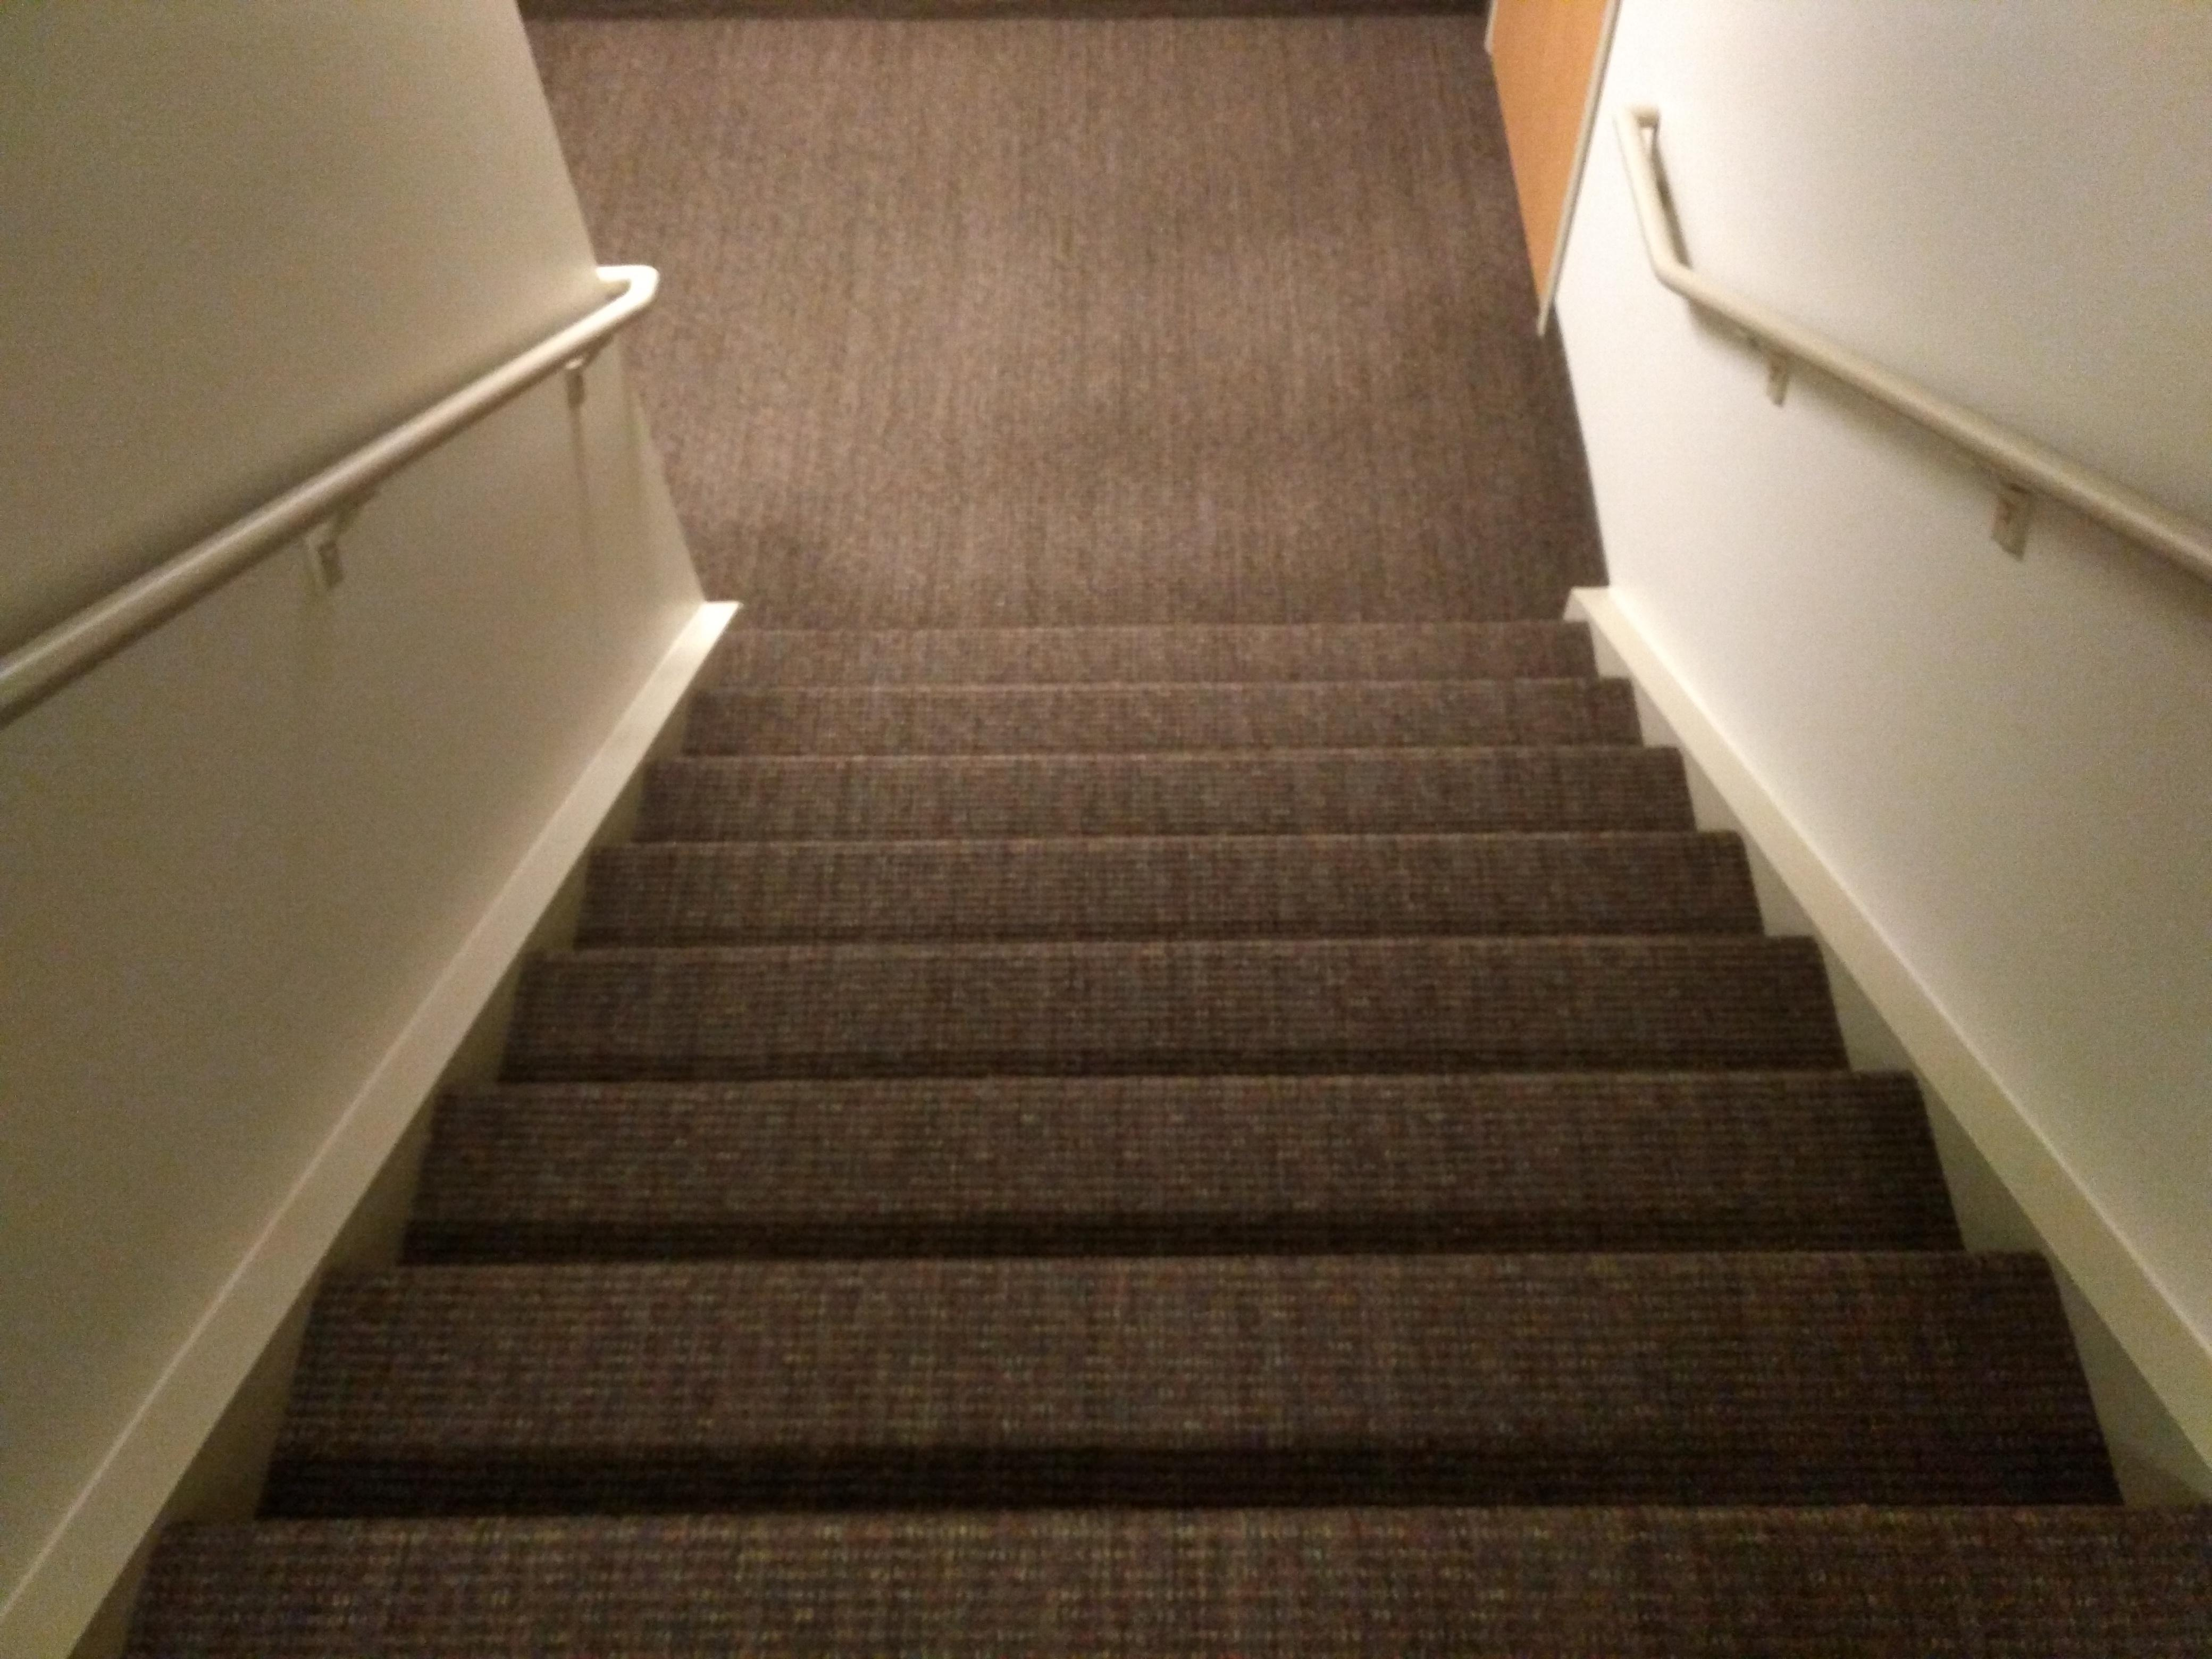stairs_down: (178, 516, 2148, 1588)
